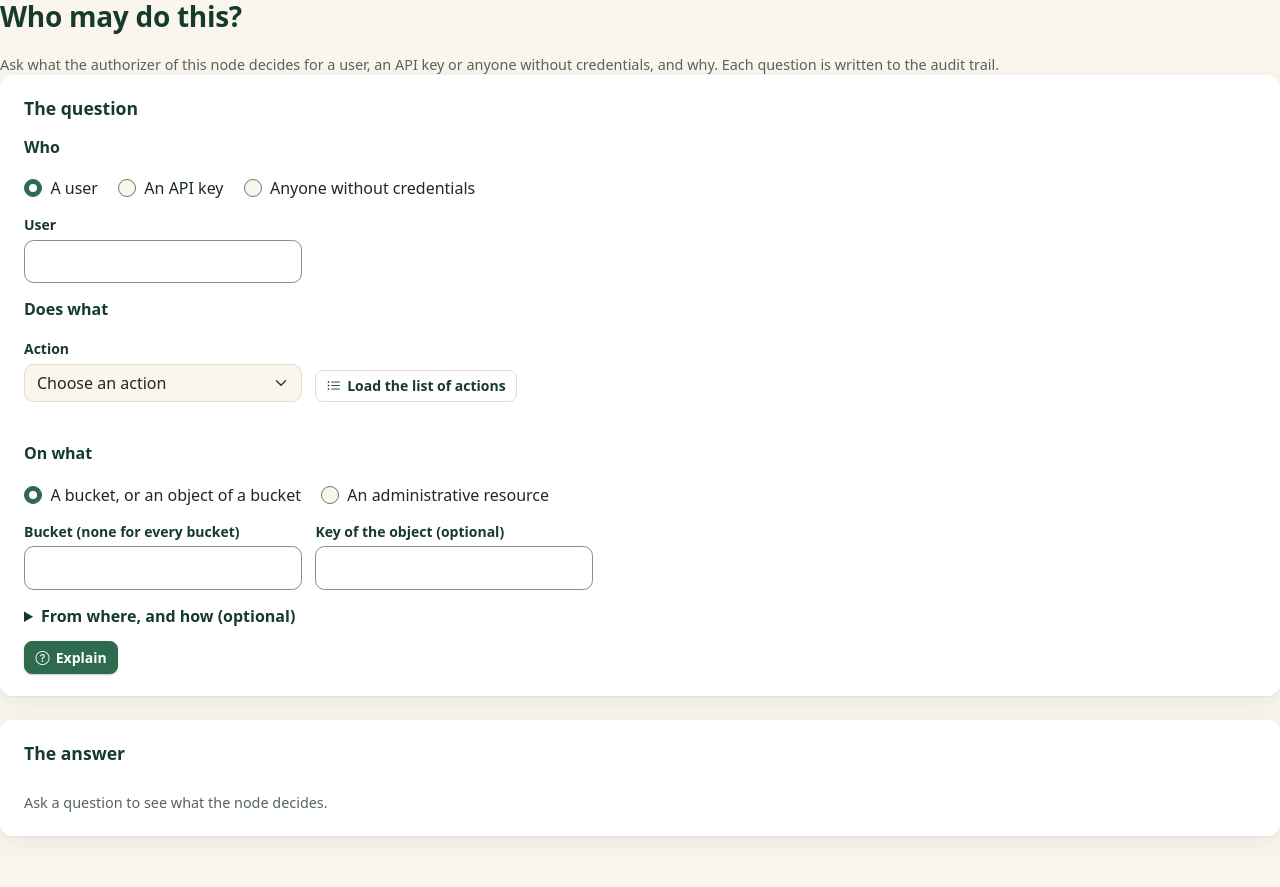
it: asking › asks once for an Explain pressed again while the node has not answered
Click the button "Load the list of actions" at [416, 386], box x1=315 y1=370 x2=517 y2=402
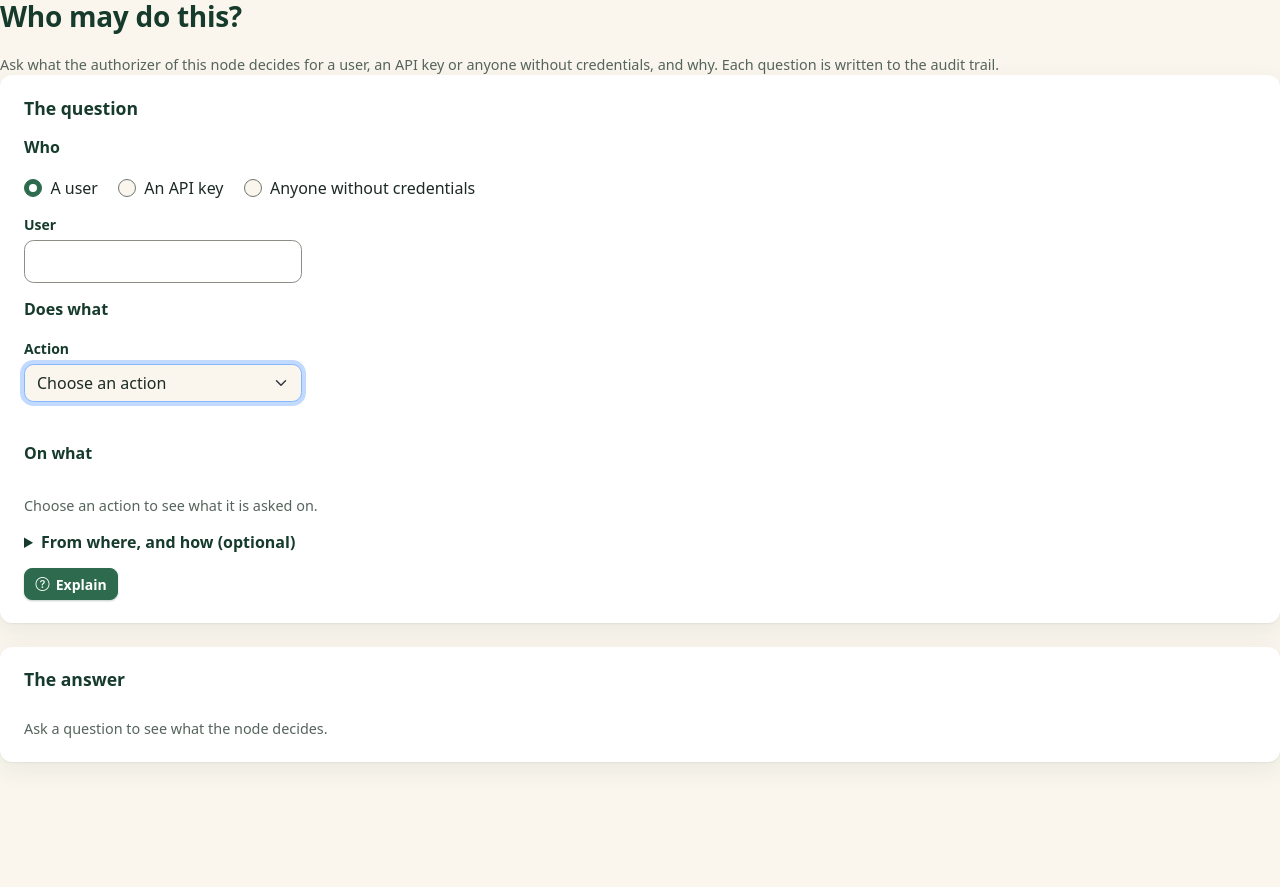
Type "bob" into the field labelled "User" at [163, 262], box x1=24 y1=240 x2=302 y2=283
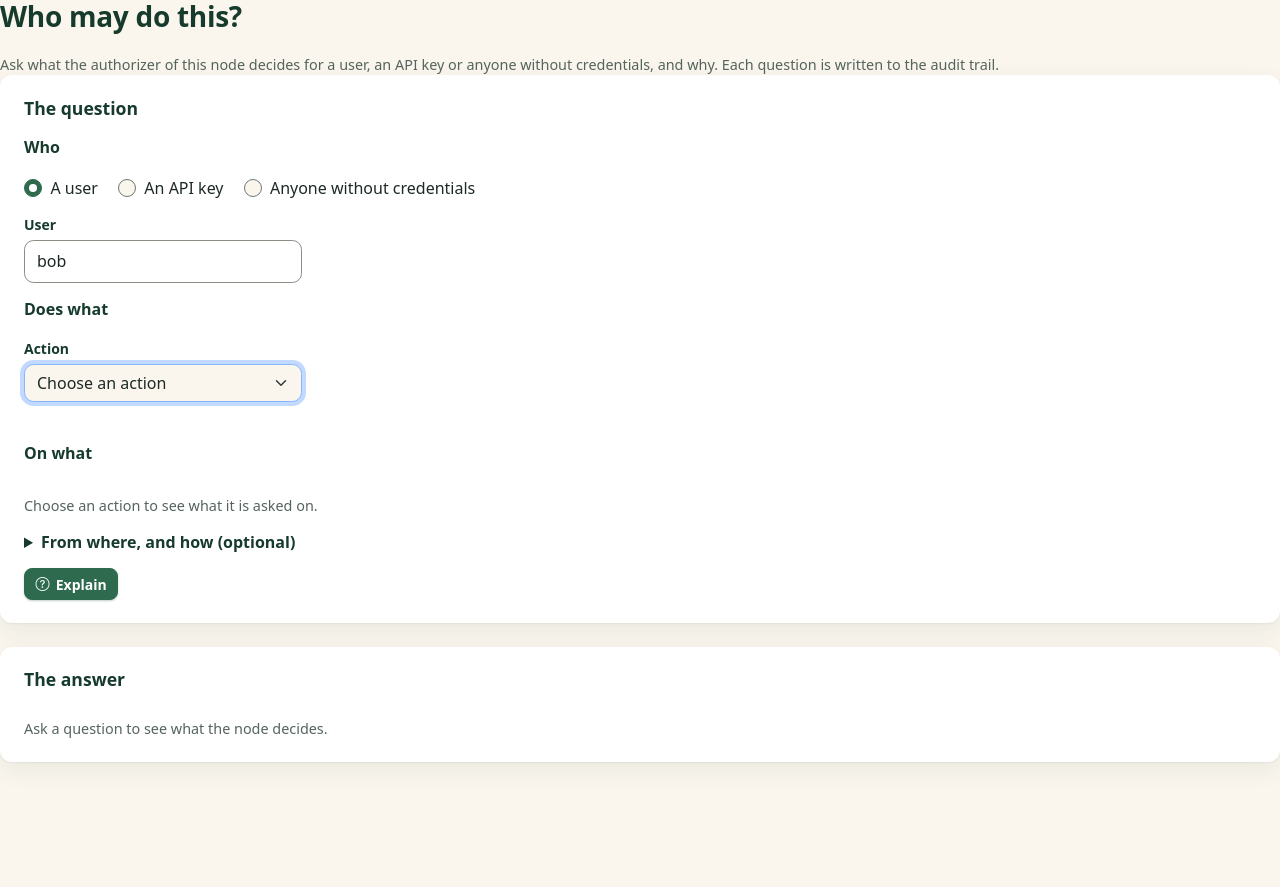
Select "s3:ListAllMyBuckets" in the dropdown labelled "Action" at [163, 383], box x1=24 y1=364 x2=302 y2=402
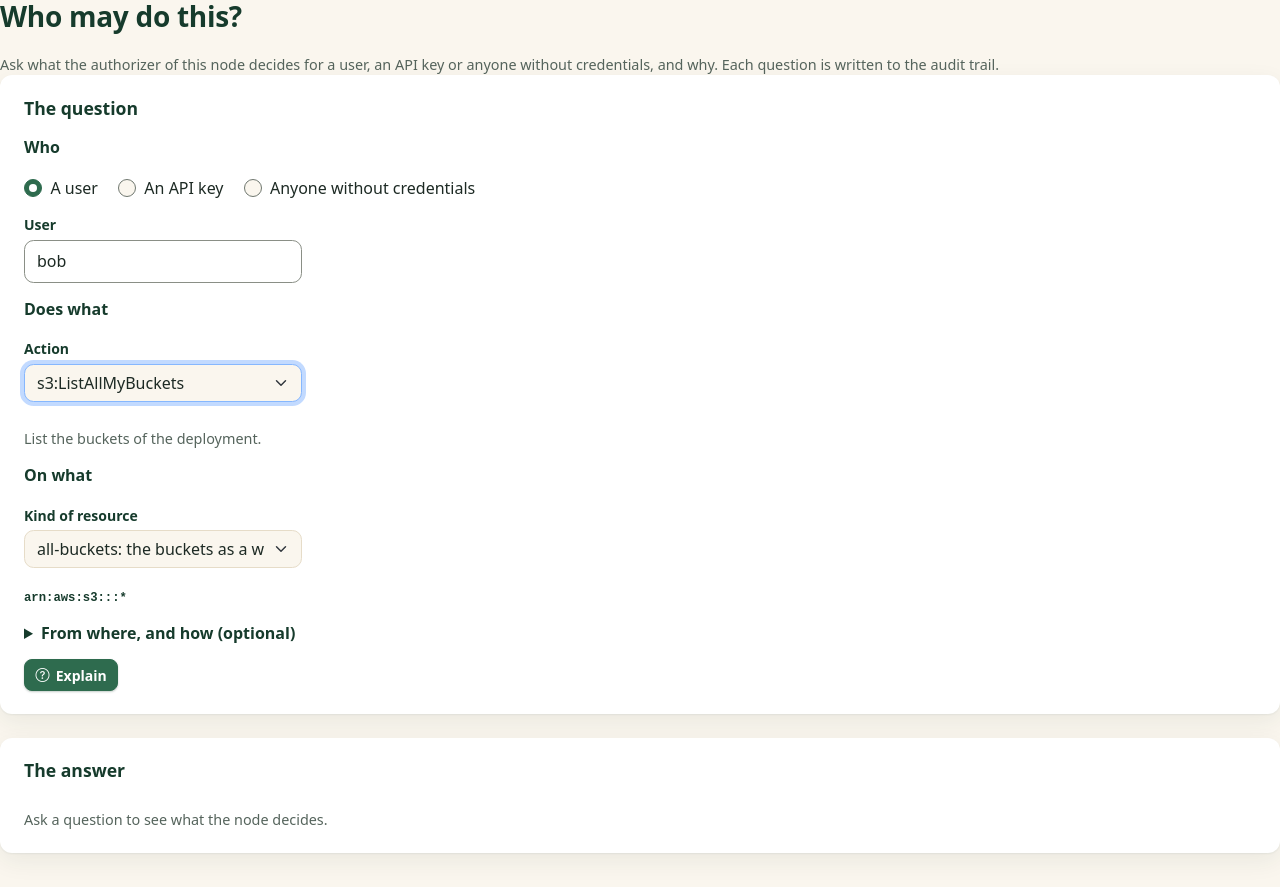
Click the button "Explain" at [71, 675], box x1=24 y1=659 x2=118 y2=691
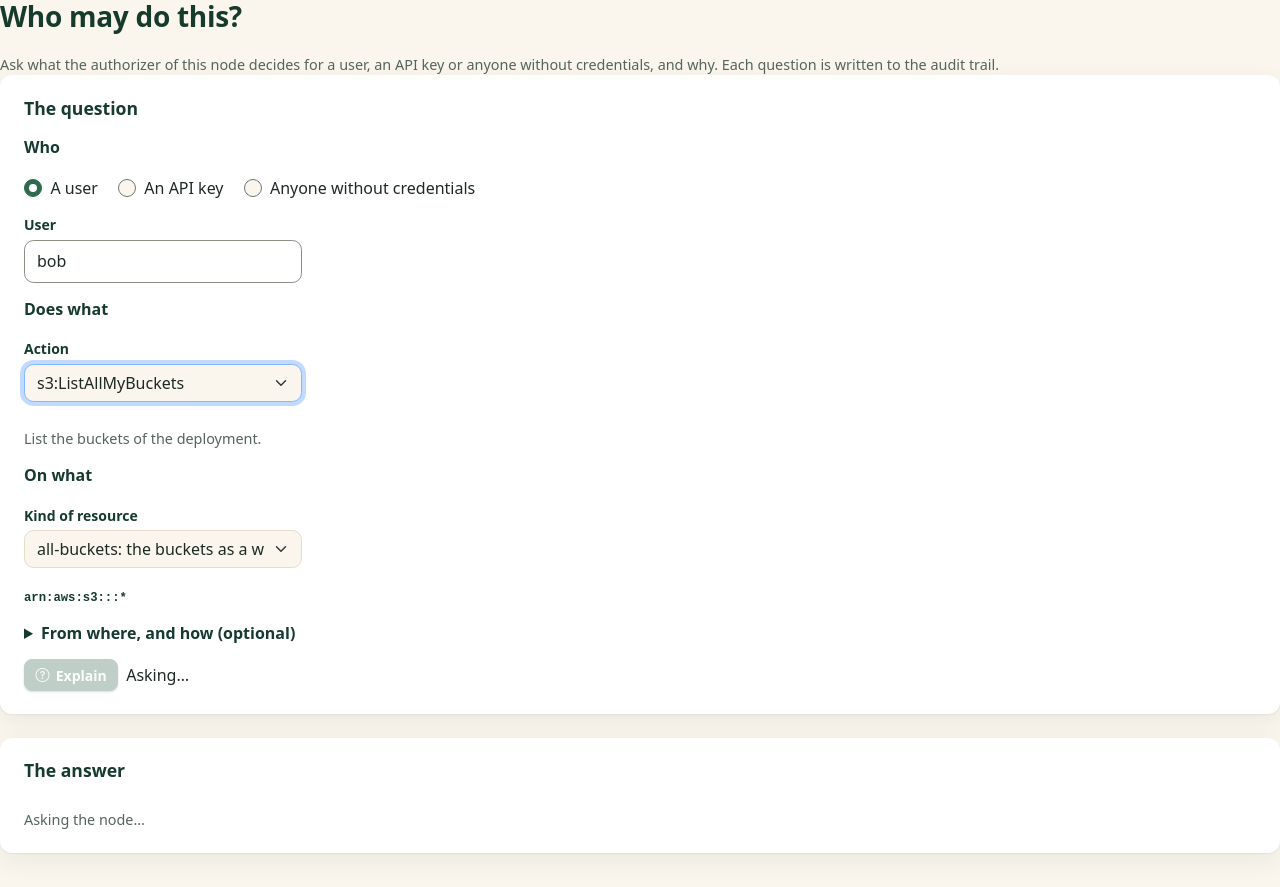
Check: the text "Asking…" is shown, box x1=126 y1=663 x2=189 y2=687
Check: the button "Explain" is disabled, box x1=24 y1=659 x2=118 y2=691
Submit the form, box x1=24 y1=136 x2=475 y2=691
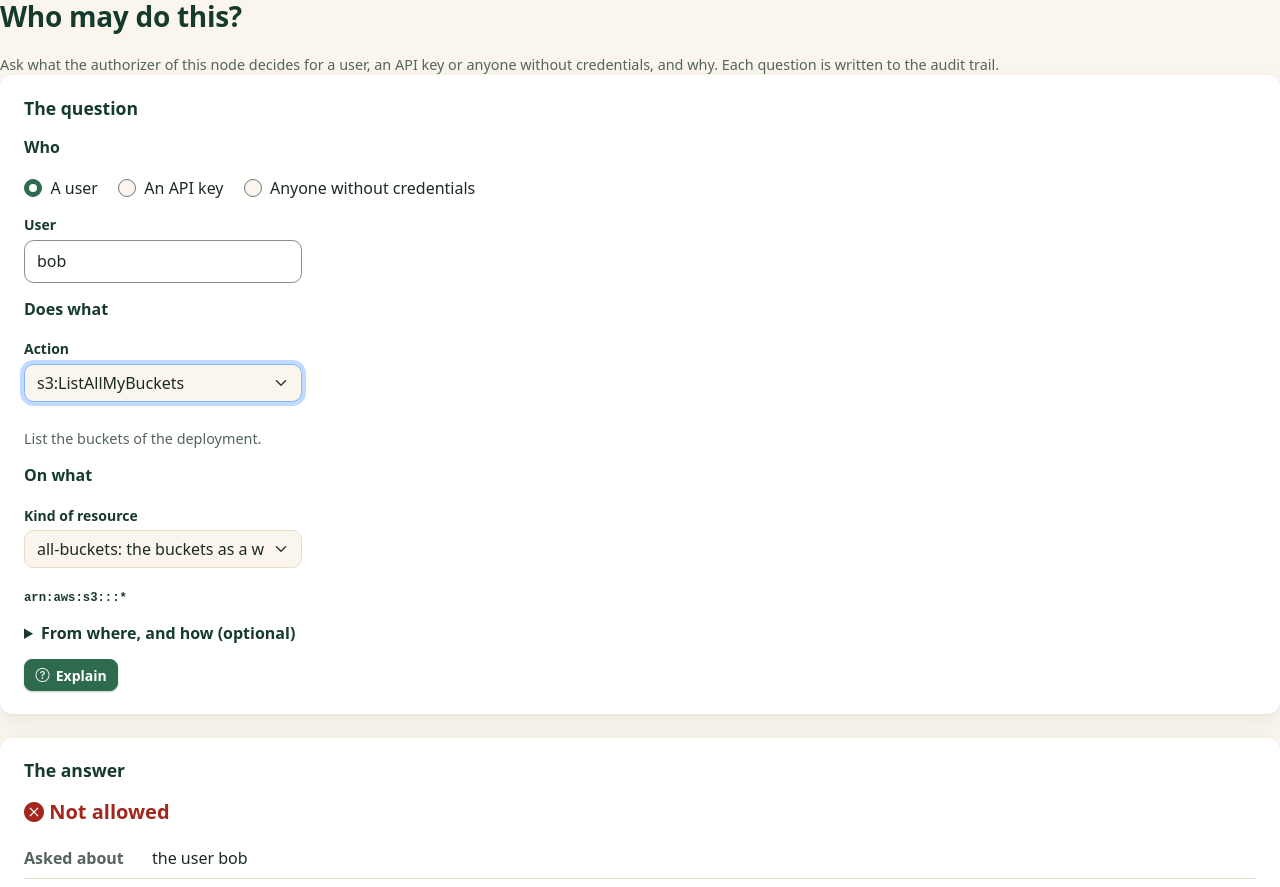
Check: the text "Not allowed" is shown, box x1=24 y1=798 x2=170 y2=825
